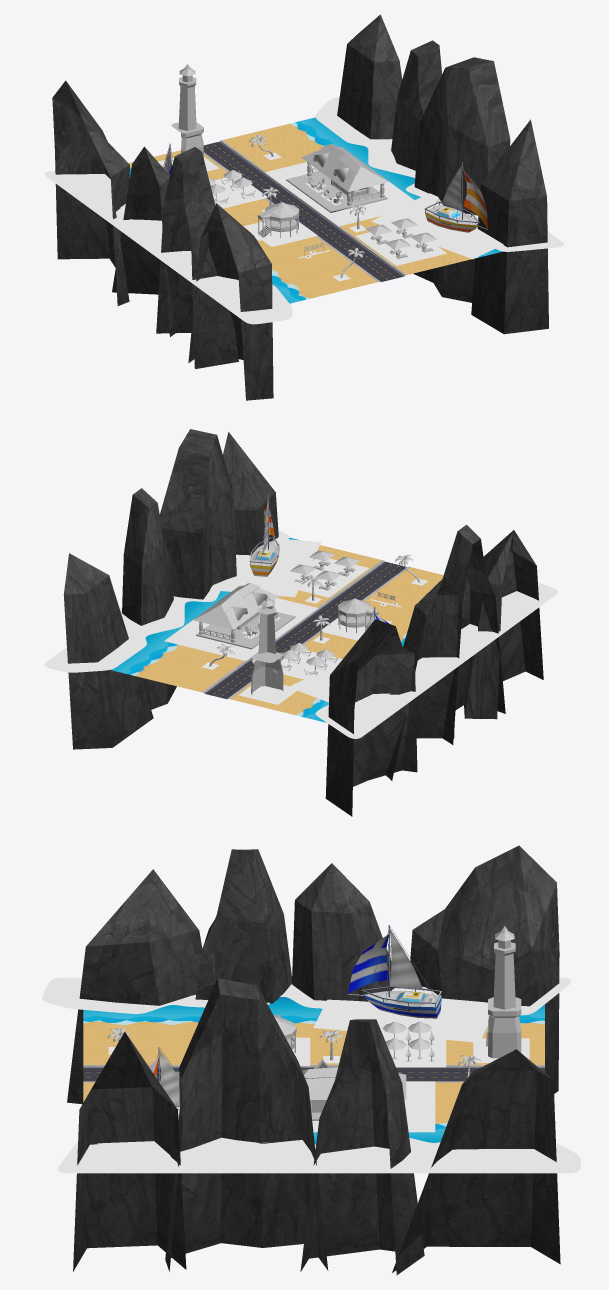
Rendered from Beach_04.fbx.
The picture shows the model from 3 angles, top to bottom: view 1: azimuth 30°, elevation 25°; view 2: azimuth 150°, elevation 25°; view 3: azimuth 270°, elevation 25°; orthographic projection. The views are drawn at different scales.
Parts seen in each view (by area): view 1: Beach_04; view 2: Beach_04; view 3: Beach_04.
Part boxes in pixels (x1,y1,x2,y2): Beach_04: (44, 14, 564, 400); Beach_04: (44, 429, 558, 816); Beach_04: (42, 845, 580, 1275).
Size of the model in its own units: 22617 by 13384 by 25170.
